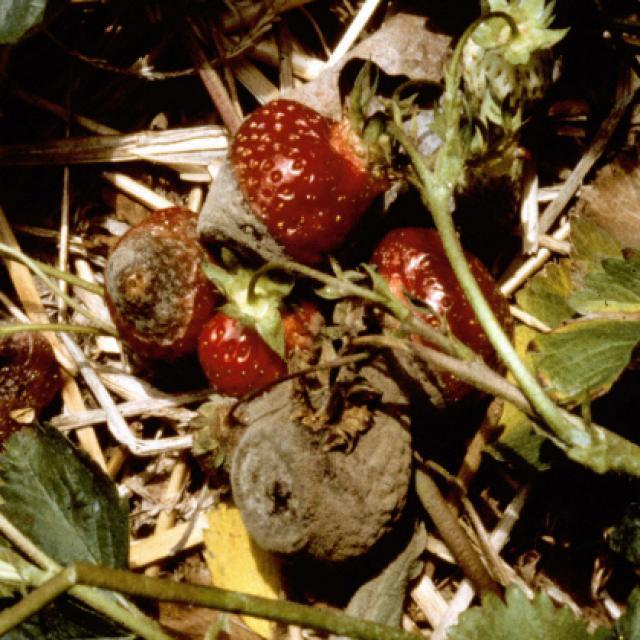Gray Mold: (228, 335, 414, 563), (200, 99, 406, 273), (107, 206, 224, 360)
